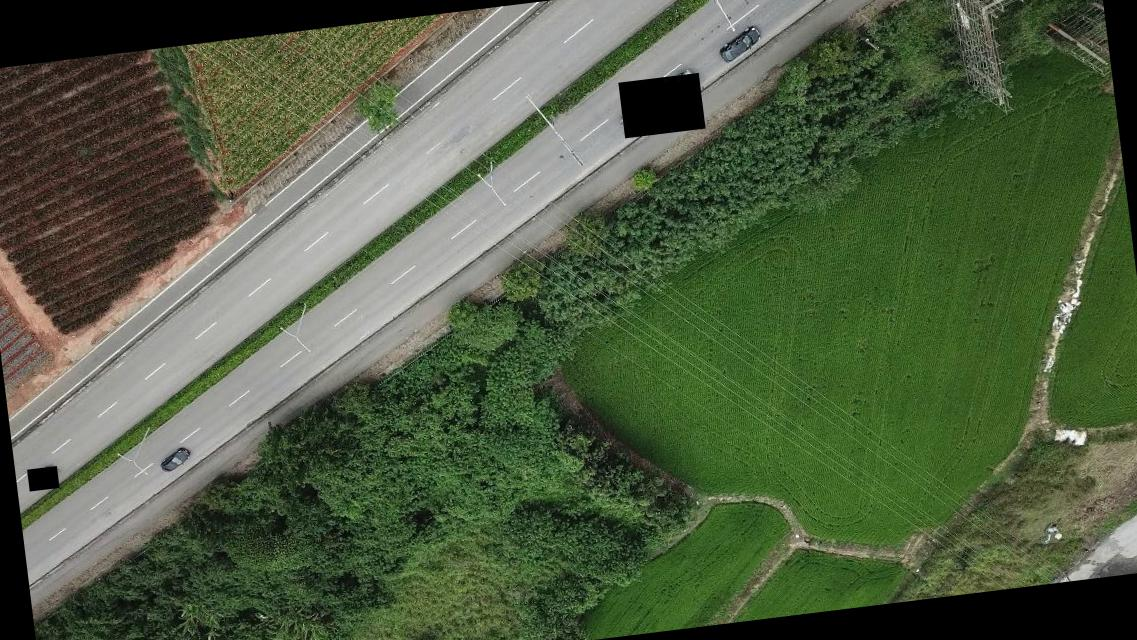vehicle: (712, 23, 766, 66), (158, 446, 192, 473)
